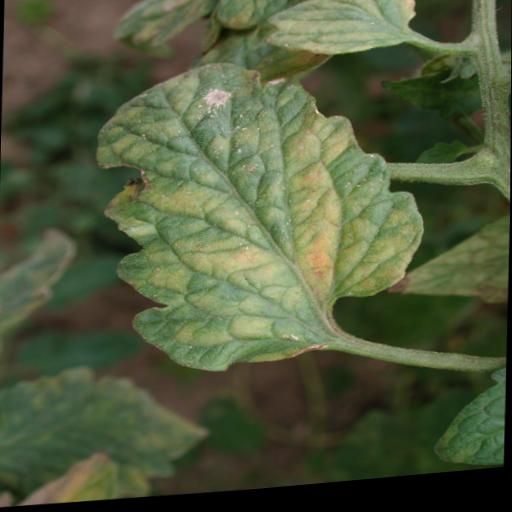Leaf Mold: (91, 49, 428, 388), (0, 354, 215, 511), (388, 218, 511, 321), (265, 0, 418, 67)
